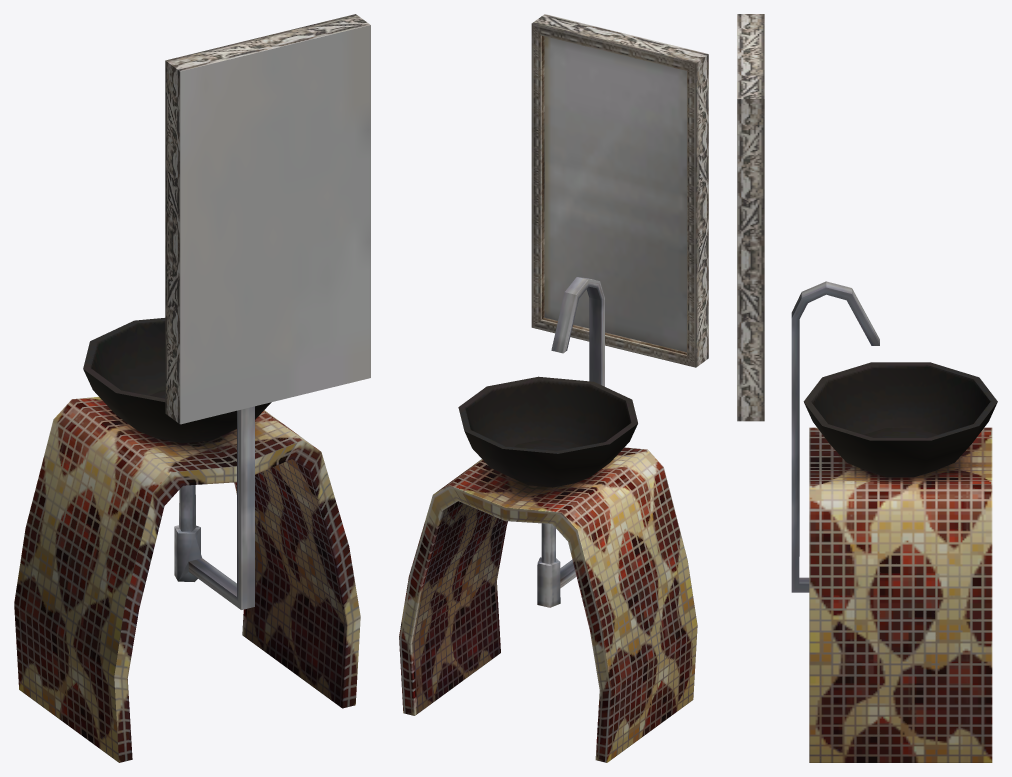
File: furni_0200103.FBX
The picture shows the model from 3 angles, left to right: view 1: azimuth 30°, elevation 25°; view 2: azimuth 150°, elevation 25°; view 3: azimuth 270°, elevation 25°; orthographic projection. The views are drawn at different scales.
Visible parts, largest first — view 1: furni_02000103; view 2: furni_02000103; view 3: furni_02000103.
Boxes of the visible parts, bbox=[...] form: furni_02000103: bbox=[14, 14, 370, 762]; furni_02000103: bbox=[399, 14, 708, 762]; furni_02000103: bbox=[737, 14, 997, 762].
Bounding box in the file's own units: 61.5 × 171 × 61.73.
